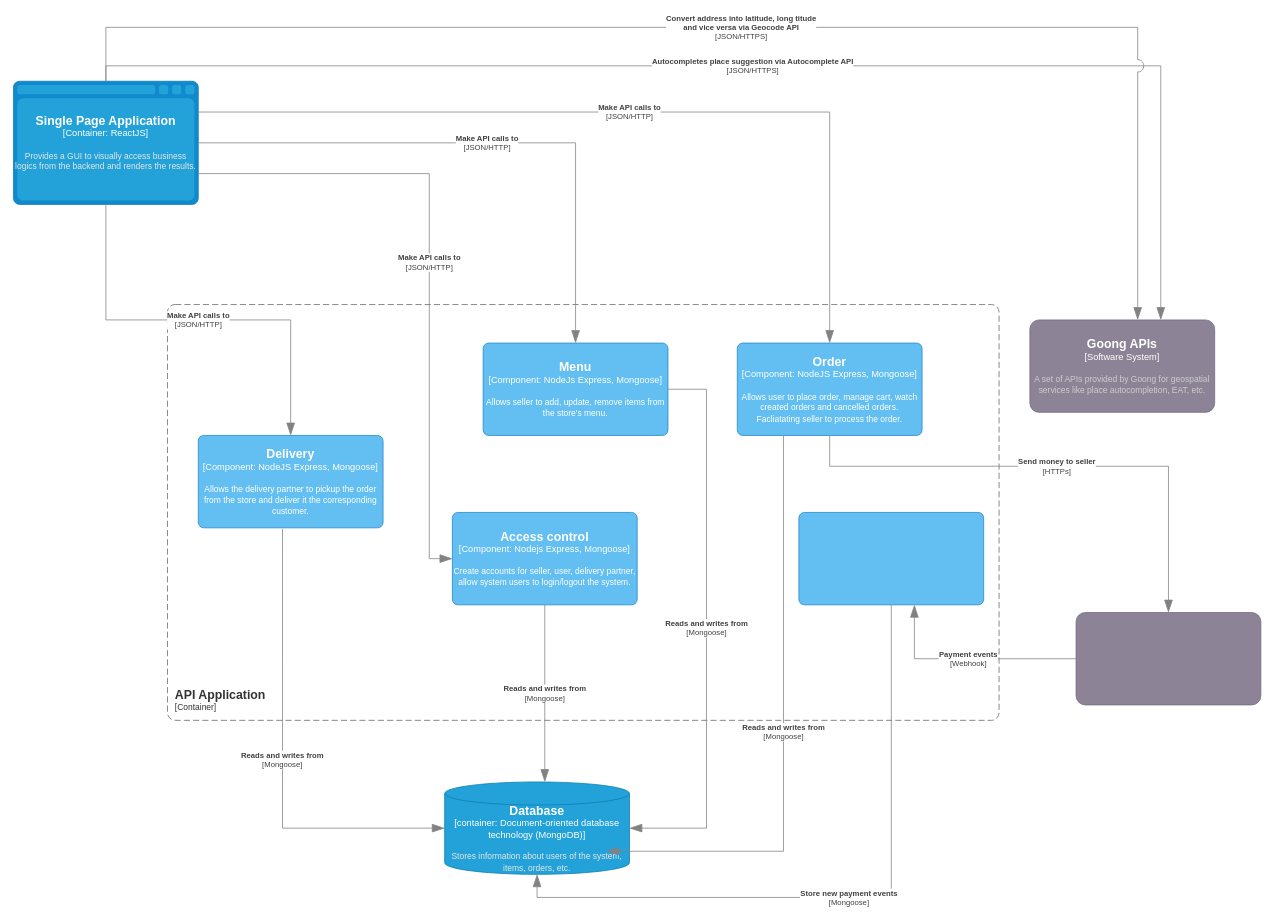
Image size: 1274x923. Some labels were removed from this diagram. Each missing label, with the centre of its shape:
Payment [Component: NodeJS Express, Mongoose] Register related payment events: pixel 891 558
Stripe [Software System] A third party service to transfer and receive money: pixel 1168 658
